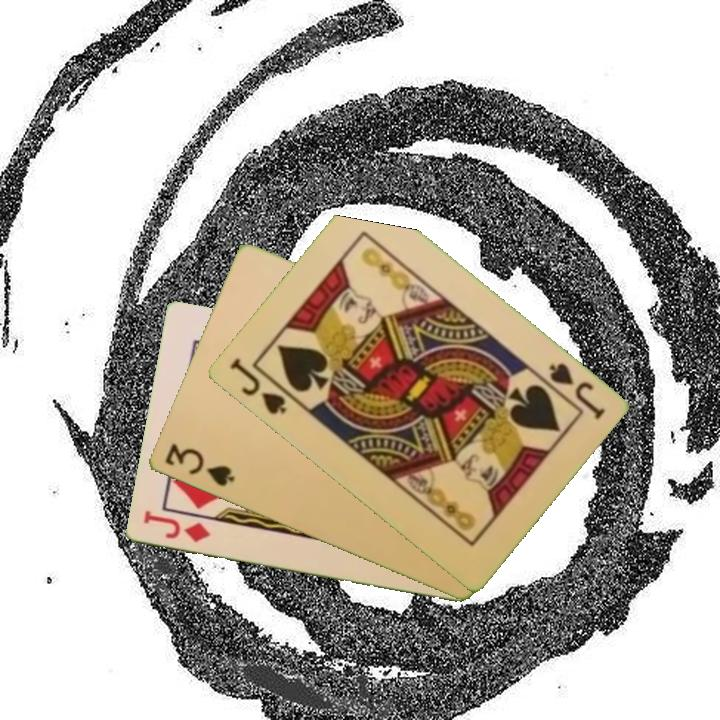3s: (160, 440, 237, 490)
Jd: (139, 507, 213, 546)
Js: (225, 354, 289, 418), (544, 359, 608, 423)
